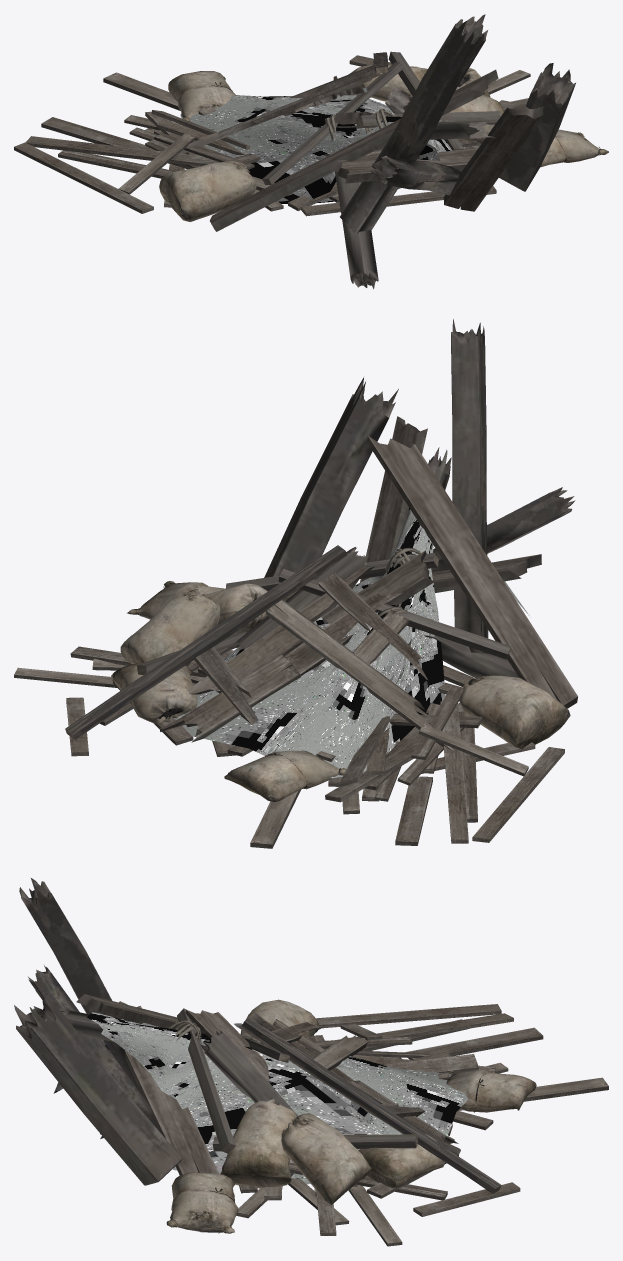
The model's file is AEG023_142out-transformed.glb.
The picture shows the model from 3 angles, top to bottom: view 1: azimuth 30°, elevation 25°; view 2: azimuth 150°, elevation 25°; view 3: azimuth 270°, elevation 25°; orthographic projection. The views are drawn at different scales.
Parts seen in each view (by area): view 1: default; view 2: default; view 3: default.
Boxes of the visible parts, bbox=[...] form: default: bbox=[14, 14, 608, 289]; default: bbox=[14, 319, 577, 848]; default: bbox=[14, 878, 608, 1246].
Bounding box in the file's own units: 4.82 × 2.81 × 5.1.
4 materials, 4 textured.
